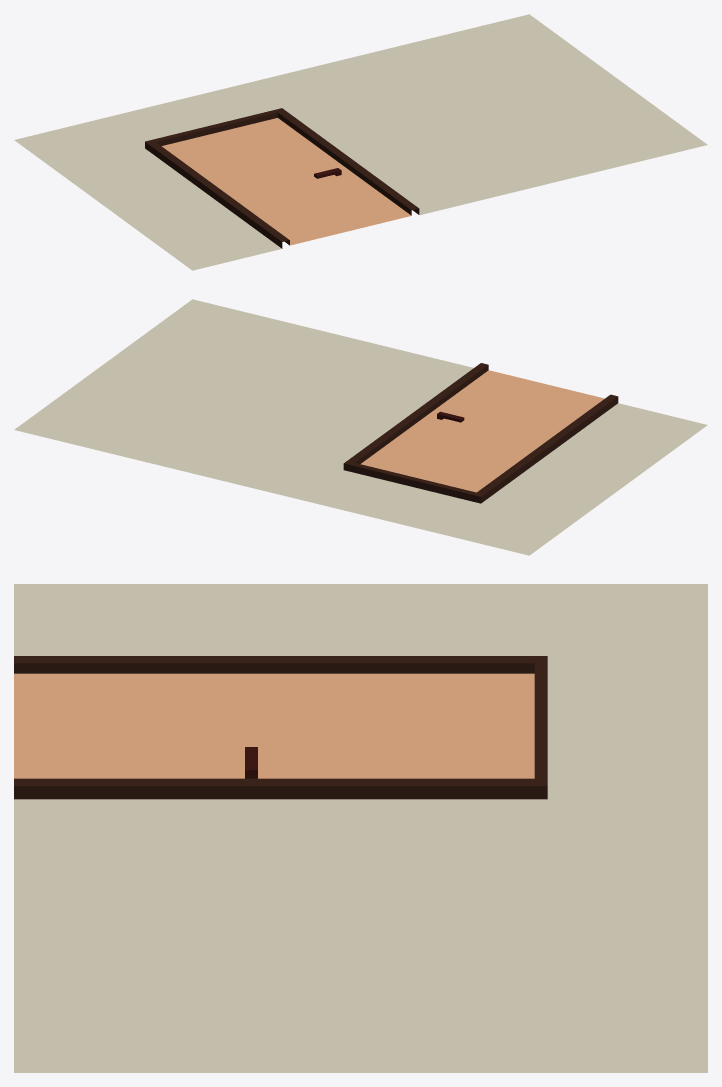
The model's file is doorwall.fbx.
The picture shows the model from 3 angles, top to bottom: view 1: azimuth 30°, elevation 25°; view 2: azimuth 150°, elevation 25°; view 3: azimuth 270°, elevation 25°; orthographic projection. The views are drawn at different scales.
Parts seen in each view (by area): view 1: Plane; view 2: Plane; view 3: Plane.
Boxes of the visible parts, bbox=[...] form: Plane: bbox=[14, 14, 707, 270]; Plane: bbox=[14, 299, 707, 555]; Plane: bbox=[14, 584, 707, 1072].
Size of the model in its own units: 500 by 6.28 by 300.
